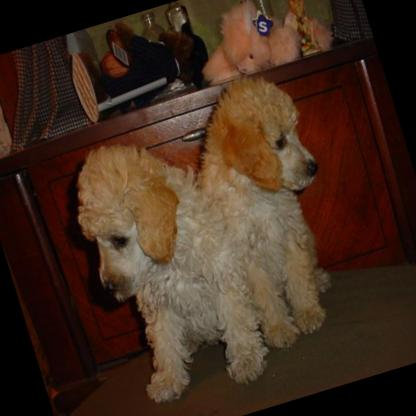miniature_poodle: (56, 113, 276, 416), (170, 62, 366, 358)
